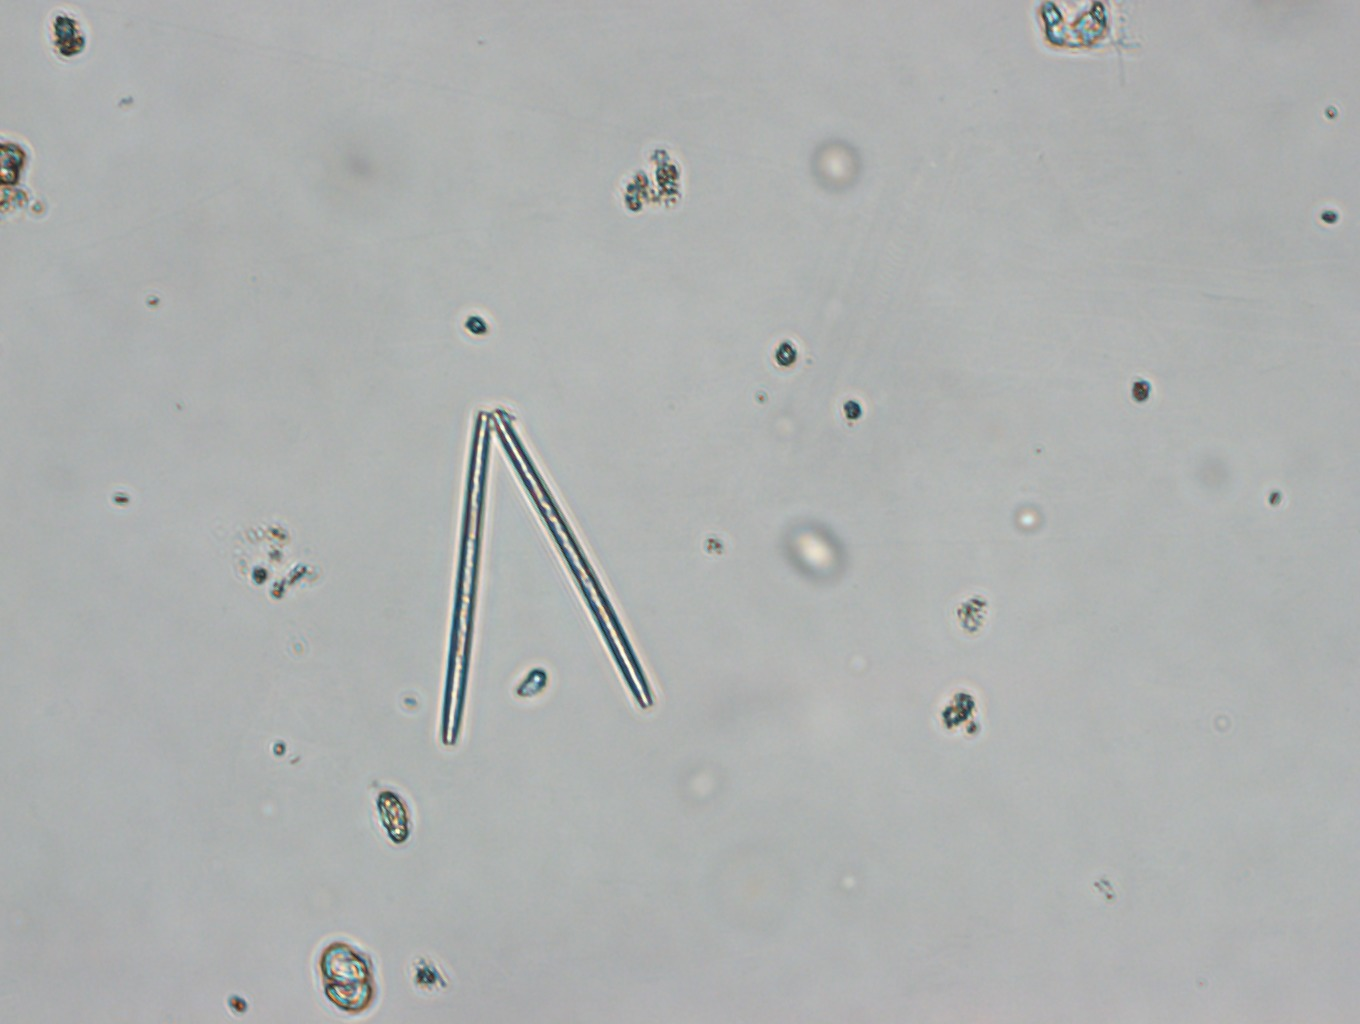thalassionema frauenfeldii: (434, 403, 657, 744)
